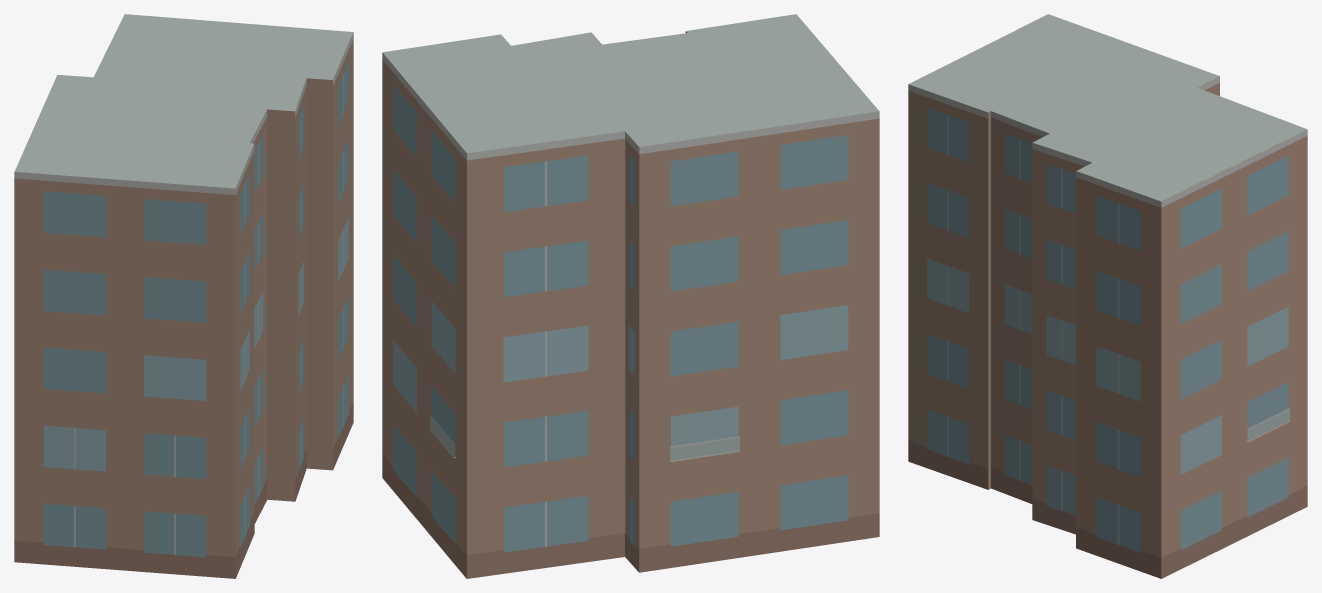
File: survey-upis-32958267.glb
The picture shows the model from 3 angles, left to right: view 1: azimuth 30°, elevation 25°; view 2: azimuth 150°, elevation 25°; view 3: azimuth 270°, elevation 25°; orthographic projection. The views are drawn at different scales.
Parts seen in each view (by area): view 1: survey-upis-32958267.tmp; view 2: survey-upis-32958267.tmp; view 3: survey-upis-32958267.tmp.
Part boxes in pixels (bbox=[...]): survey-upis-32958267.tmp: bbox=[14, 14, 353, 578]; survey-upis-32958267.tmp: bbox=[382, 14, 879, 578]; survey-upis-32958267.tmp: bbox=[908, 14, 1307, 578].
Size of the model in its own units: 15.47 by 14.5 by 13.92.
